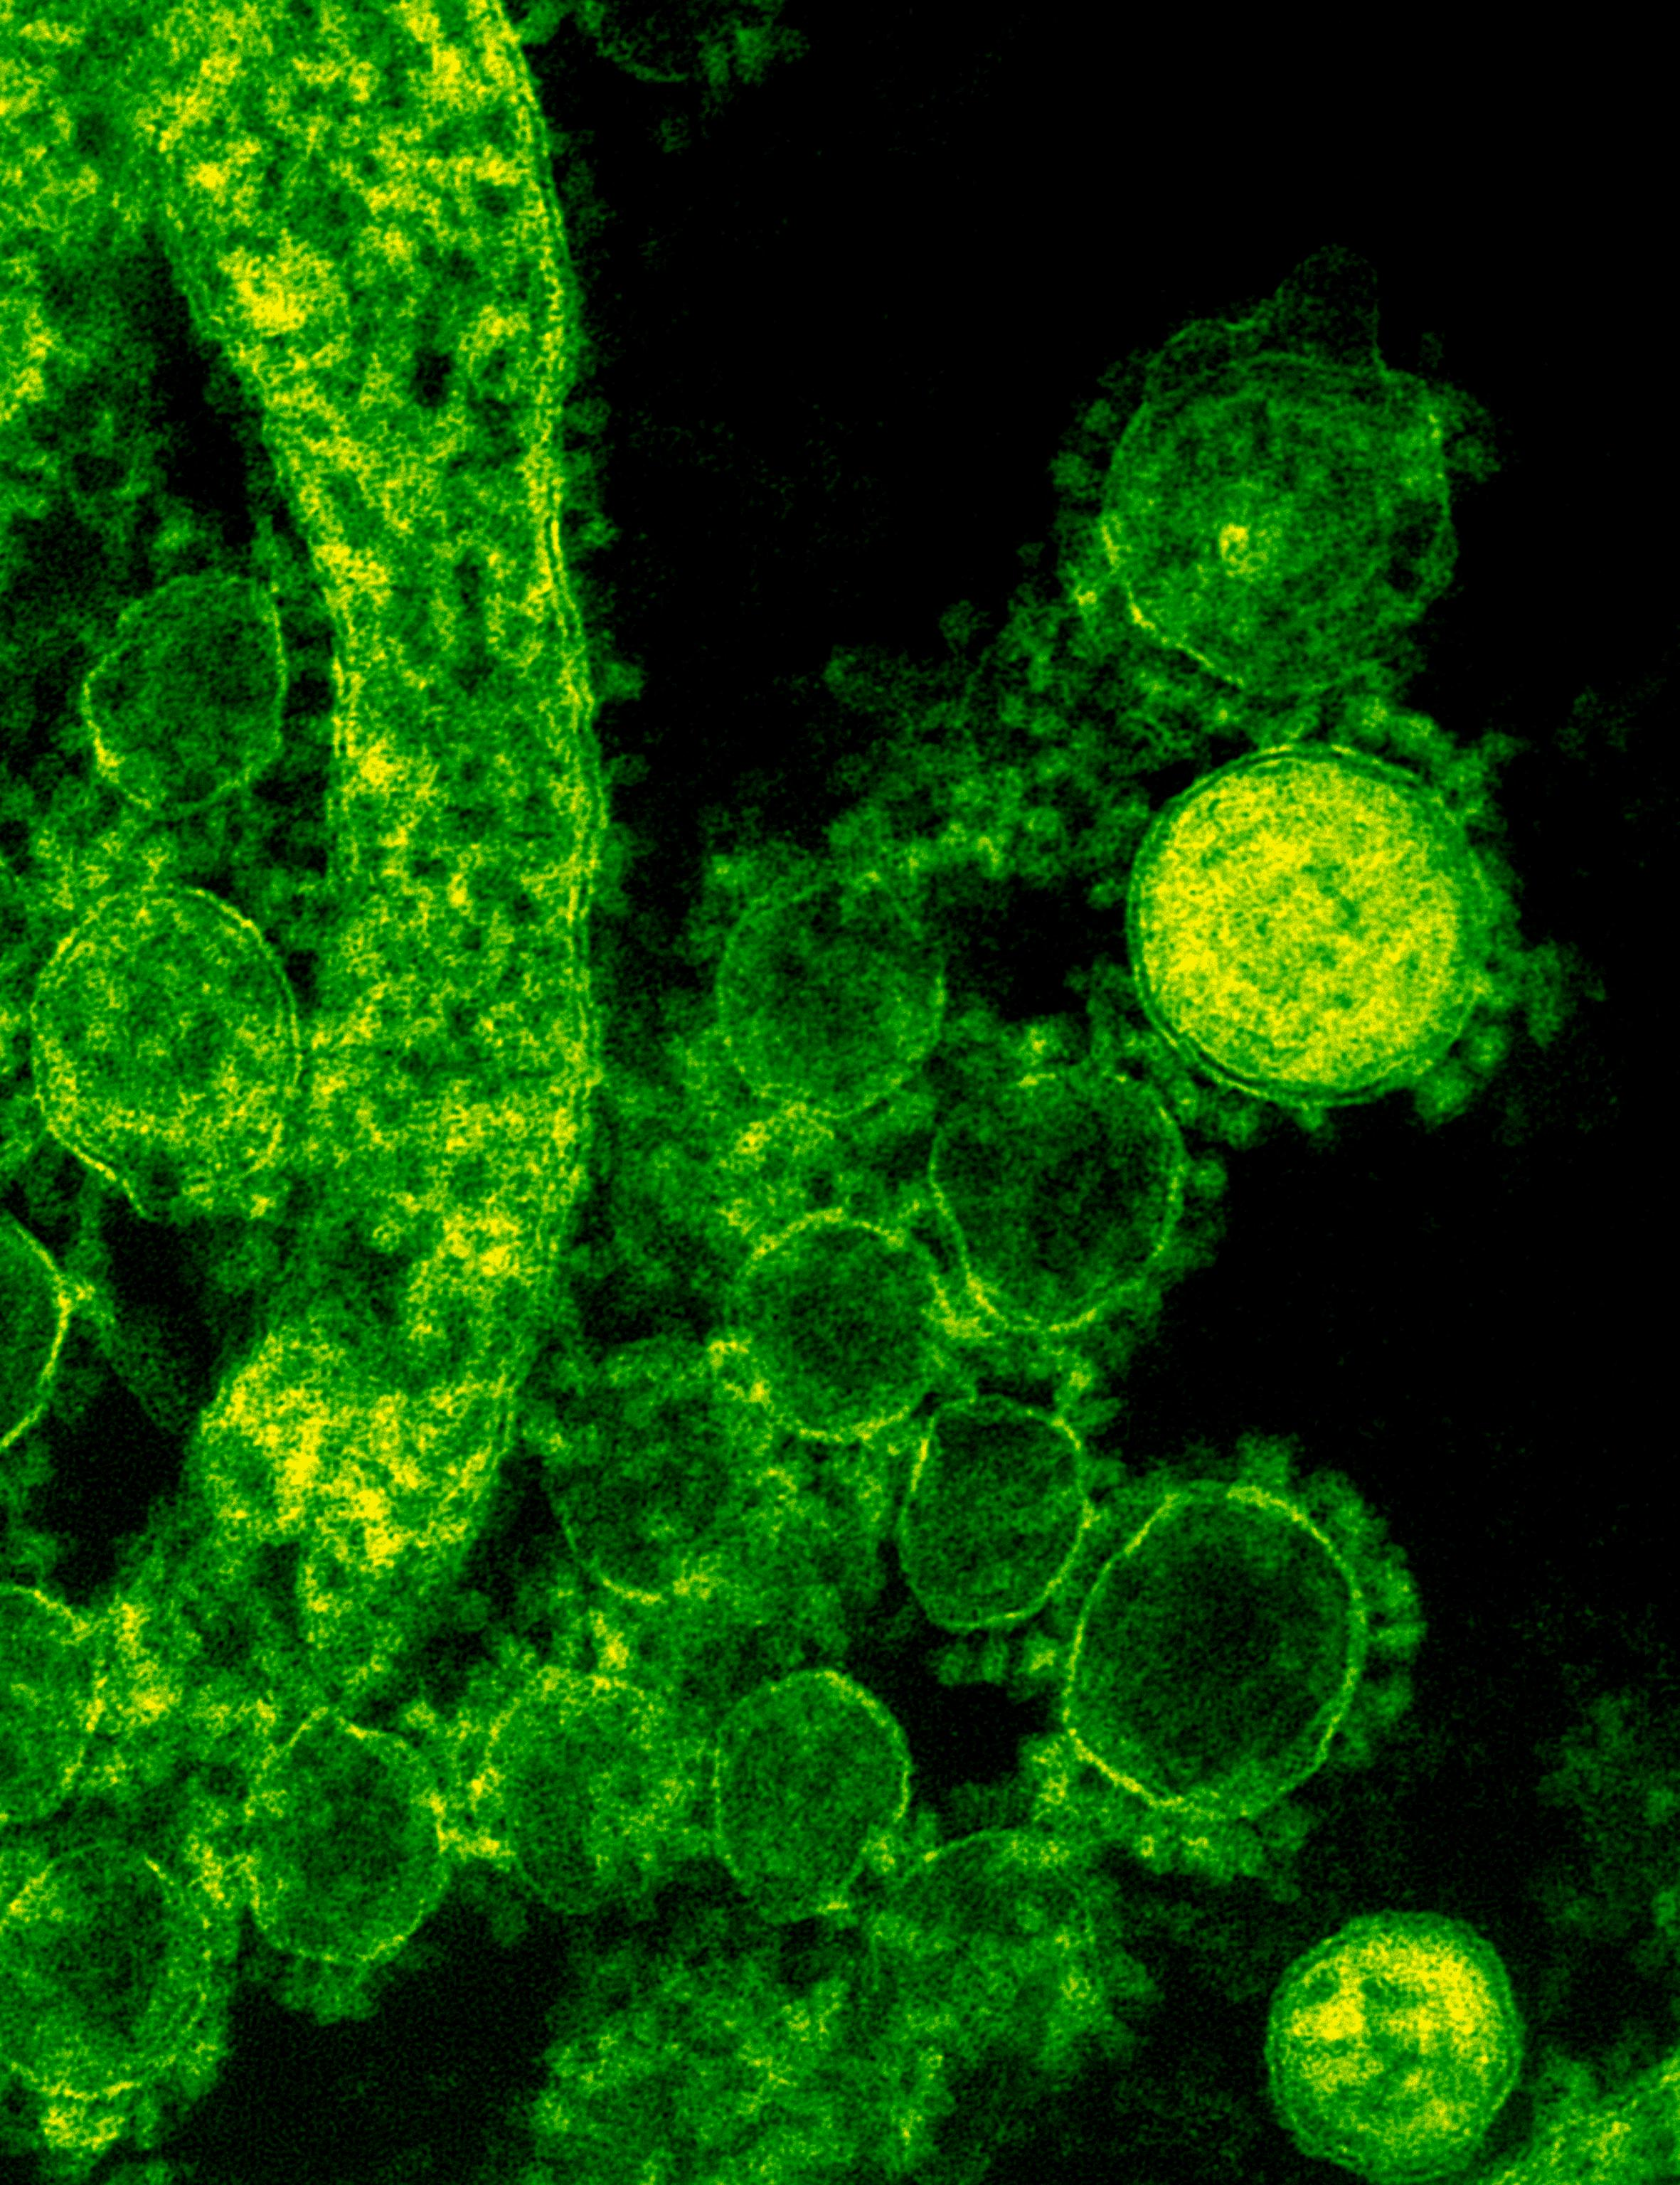COVID19: (319, 1514, 1500, 1984), (626, 881, 1182, 1528), (1004, 206, 1500, 720), (1064, 734, 1632, 1167)
